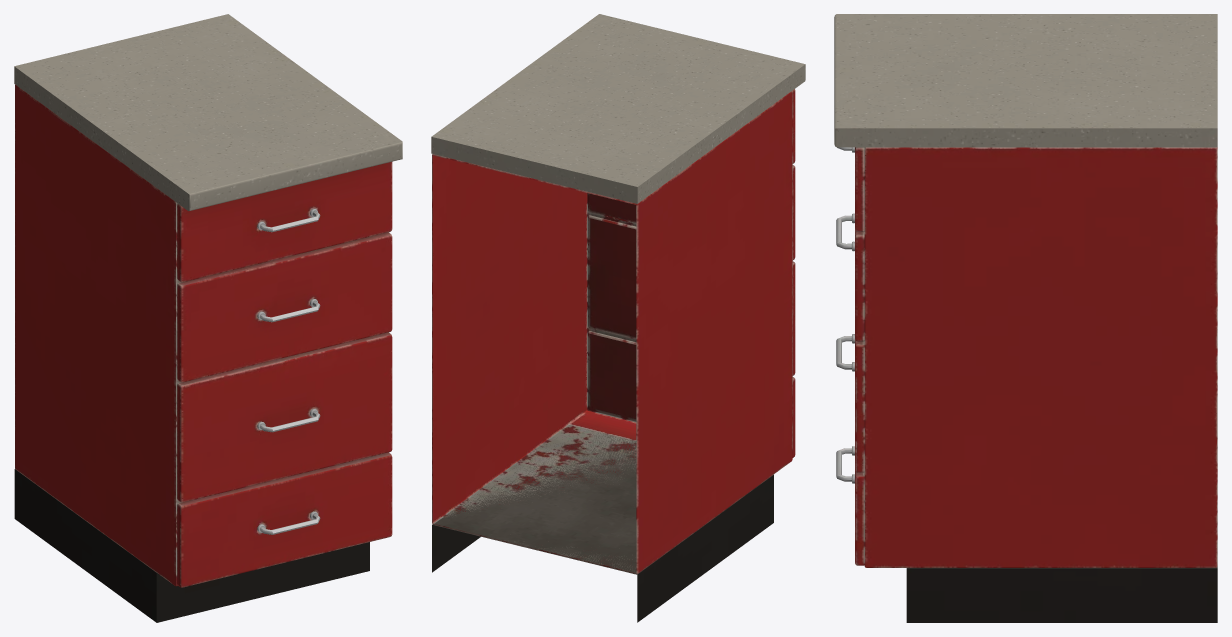
File: kit_base_45dr_red.glb
The picture shows the model from 3 angles, left to right: view 1: azimuth 30°, elevation 25°; view 2: azimuth 150°, elevation 25°; view 3: azimuth 270°, elevation 25°; orthographic projection. The views are drawn at different scales.
Parts seen in each view (by area): view 1: kit_base_45dr_red; view 2: kit_base_45dr_red; view 3: kit_base_45dr_red.
Part boxes in pixels (x1,y1,x2,y2): kit_base_45dr_red: (14,14,402,622); kit_base_45dr_red: (431,14,805,622); kit_base_45dr_red: (834,14,1217,622).
Bounding box in the file's own units: 0.448 × 0.905 × 0.635.
1 material, 1 textured.
